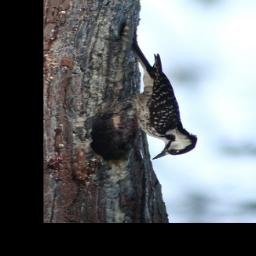Woodpecker: (104, 40, 199, 162)
